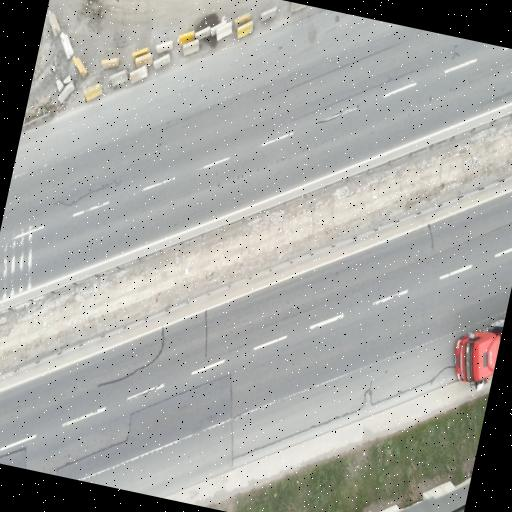truck: (454, 317, 504, 389)
